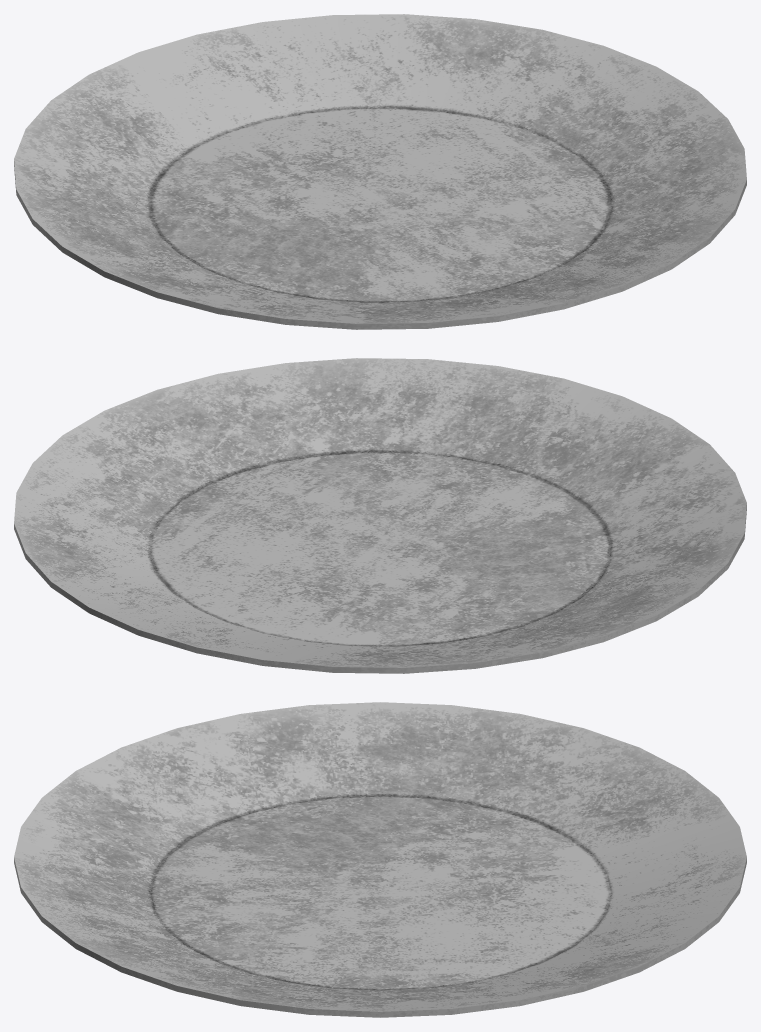
File: Plate_AA.fbx
3 renders of one model, top to bottom at view 1: azimuth 30°, elevation 25°; view 2: azimuth 150°, elevation 25°; view 3: azimuth 270°, elevation 25°, orthographic.
Visible parts, largest first — view 1: Plate_AA; view 2: Plate_AA; view 3: Plate_AA.
Boxes of the visible parts, x1,y1,x2,y2 form: Plate_AA: (14,14,746,329); Plate_AA: (14,358,746,673); Plate_AA: (14,702,746,1017).
Size of the model in its own units: 0.5825 by 0.5825 by 0.0375.
1 material, 1 textured.
